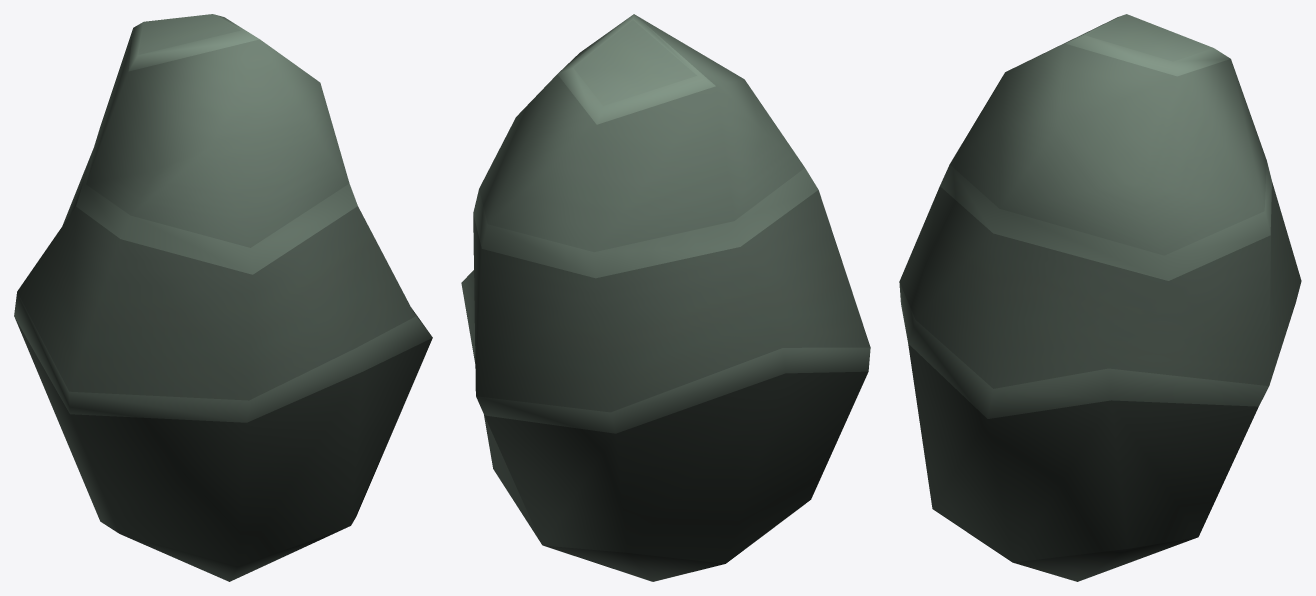
The model's file is stone_1.fbx.
3 renders of one model, left to right at view 1: azimuth 30°, elevation 25°; view 2: azimuth 150°, elevation 25°; view 3: azimuth 270°, elevation 25°, orthographic. The views are drawn at different scales.
Visible parts, largest first — view 1: stone_1; view 2: stone_1; view 3: stone_1.
Boxes of the visible parts, bbox=[...] form: stone_1: bbox=[14, 14, 432, 581]; stone_1: bbox=[461, 14, 870, 581]; stone_1: bbox=[899, 14, 1301, 581].
Size of the model in its own units: 222 by 325 by 214.
Materials: 1 (1 with a texture image).
